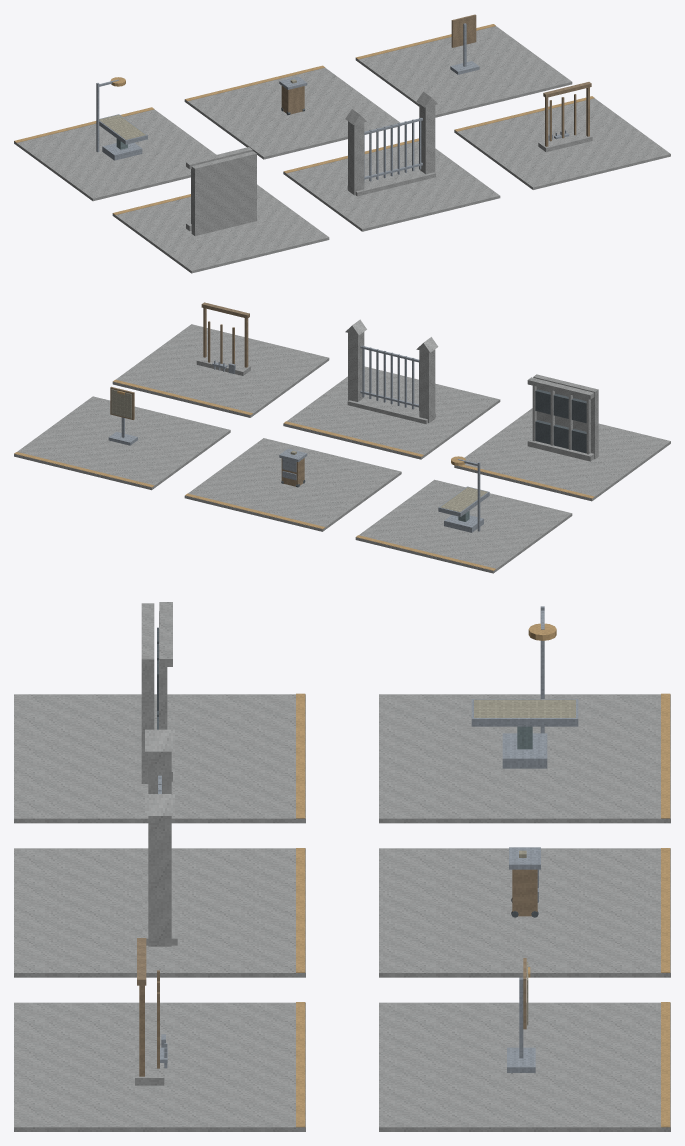
Rendered from level_blockout_kit_wld_07_mortuary_p02.glb.
3 views of the same model, one above another, from view 1: azimuth 30°, elevation 25°; view 2: azimuth 150°, elevation 25°; view 3: azimuth 270°, elevation 25° (orthographic). The views are drawn at different scales.
Visible parts, largest first — view 1: level_blockout_kit_wld_07_mortuary_p02; view 2: level_blockout_kit_wld_07_mortuary_p02; view 3: level_blockout_kit_wld_07_mortuary_p02.
Part boxes in pixels (x1,y1,x2,y2): level_blockout_kit_wld_07_mortuary_p02: (14,14,670,273); level_blockout_kit_wld_07_mortuary_p02: (14,302,670,573); level_blockout_kit_wld_07_mortuary_p02: (14,602,670,1131).
Size of the model in its own units: 19.65 by 3.25 by 12.6.
Materials: 7 (7 with a texture image).
